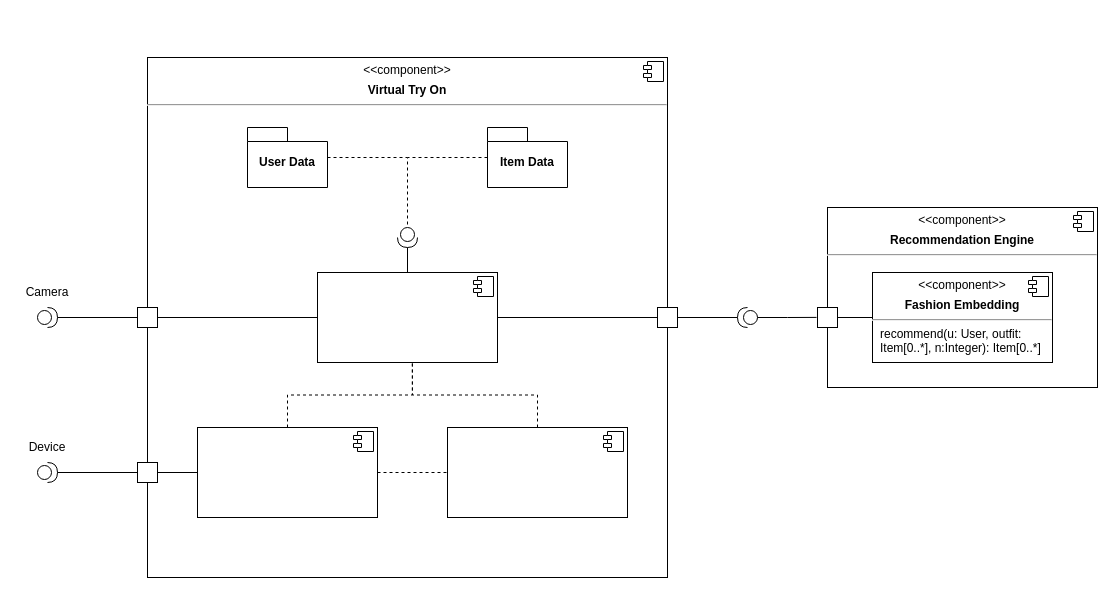
Image size: 1115x595. Some labels were removed from this diagram. Each missing label, with the centre of its shape:
"<<component>> Feature Extractor getFeatures(): Features[0..*)" belongs at point 407,317.
"<<component>> Synthesis layer render(frame:Image):Image" belongs at point 537,472.
"<<component>> Virtual Try On launch(u: User, recs:Item[0..*]: SynthesisLayer" belongs at point 287,472.
